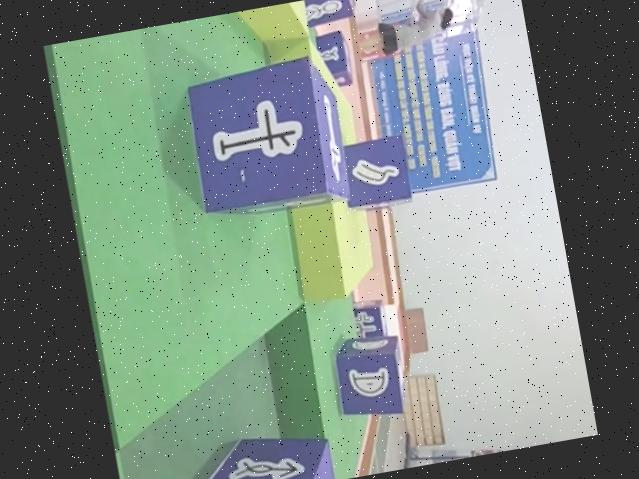R2 Real Blue: (179, 51, 352, 224), (177, 422, 334, 479), (326, 331, 410, 424), (334, 133, 414, 214), (313, 28, 354, 89), (350, 296, 388, 341), (301, 0, 355, 25)
